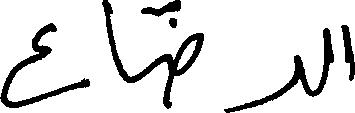X: (0, 18, 89, 112), (225, 50, 299, 112), (175, 0, 202, 80), (102, 0, 125, 85), (319, 23, 331, 98), (341, 20, 354, 85)
